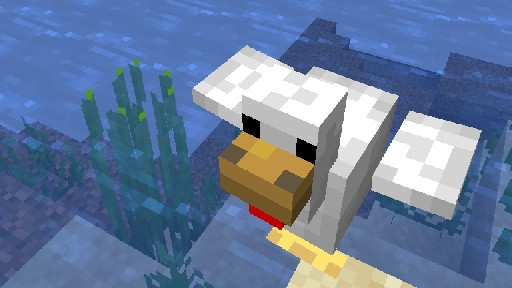chicken: (191, 44, 481, 279)
